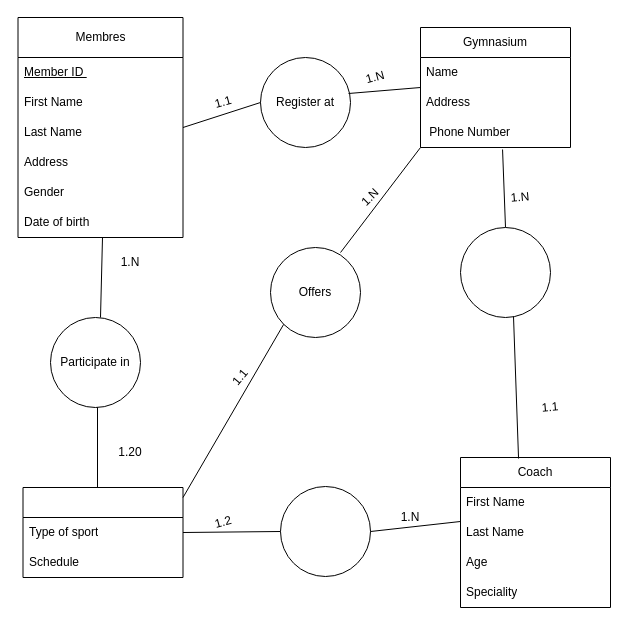
Image size: 628x625. Some labels were removed from this diagram. Here are the shapes that lost their labels. From the top down, the box of each, then its label:
(460, 226, 550, 318): Employs
(22, 486, 183, 578): Session
(280, 486, 370, 576): Led by
